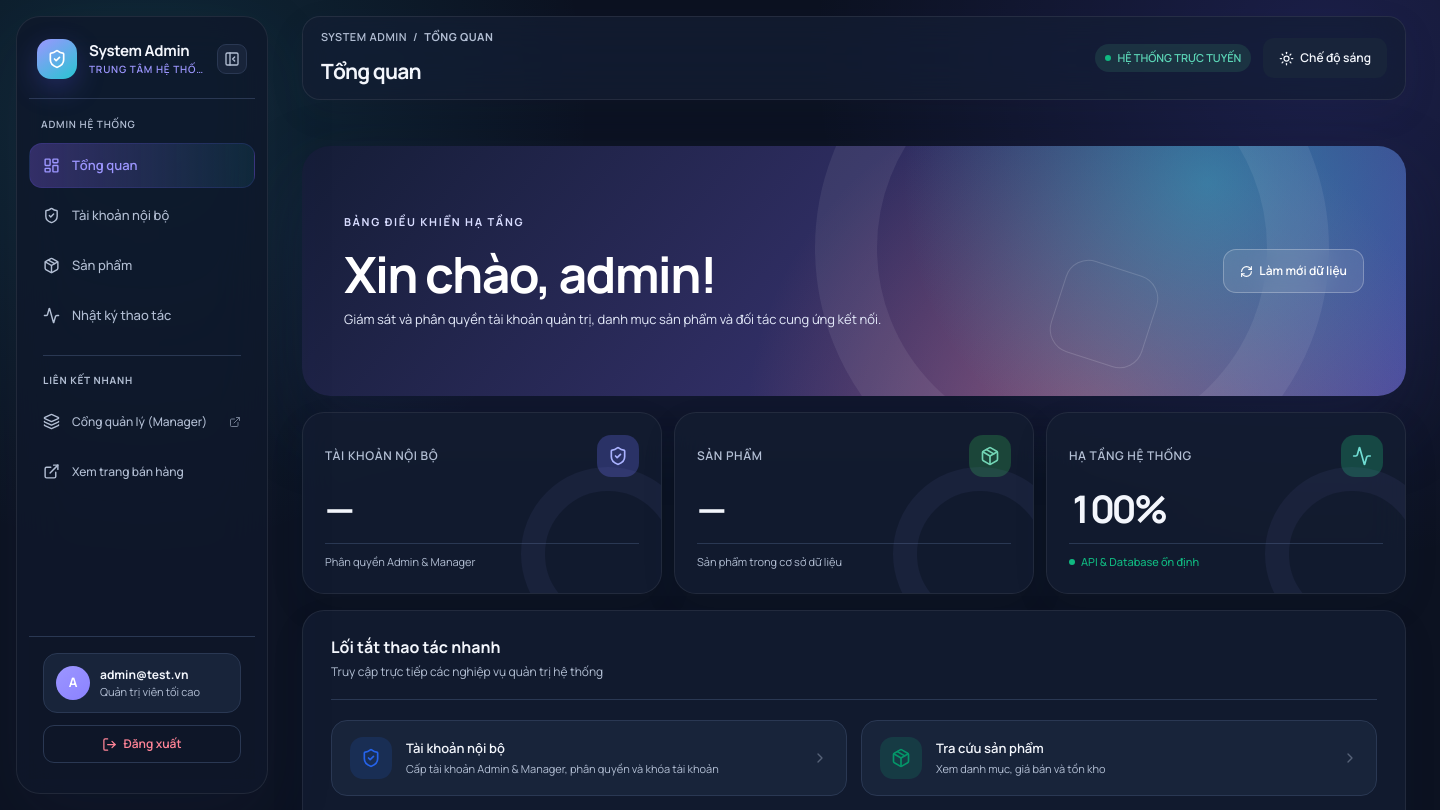
Test: dashboard shortcut opens its own function: Xem danh mục, giá bán và tồn kho
This screenshot has width=1440, height=810.
Click the link "Tra cứu sản phẩm Xem danh mục, giá bán và tồn kho" at (901, 758), box [861,720,1377,796]
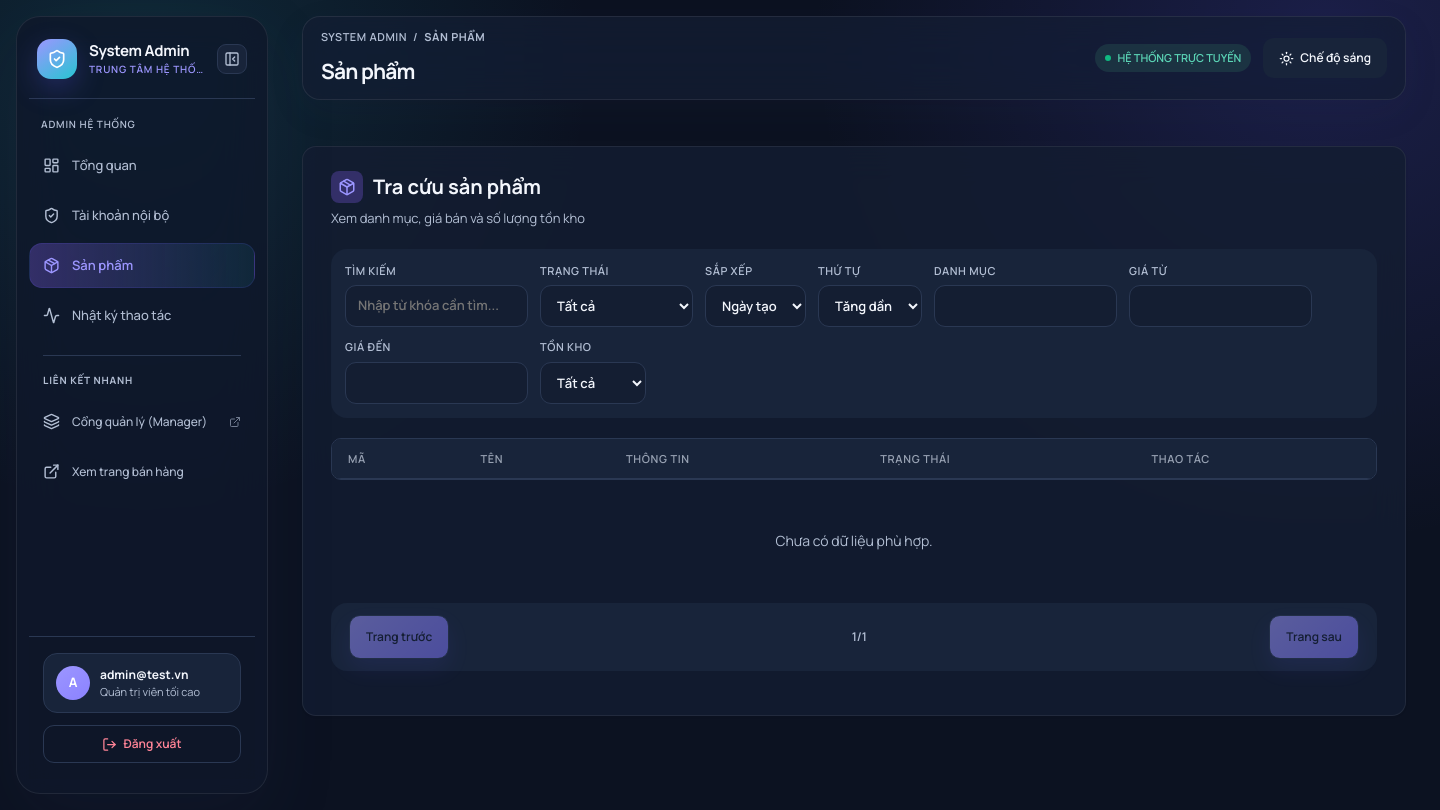
Now the text "Chưa có dữ liệu phù hợp." is shown, box [776,531,932,550]
